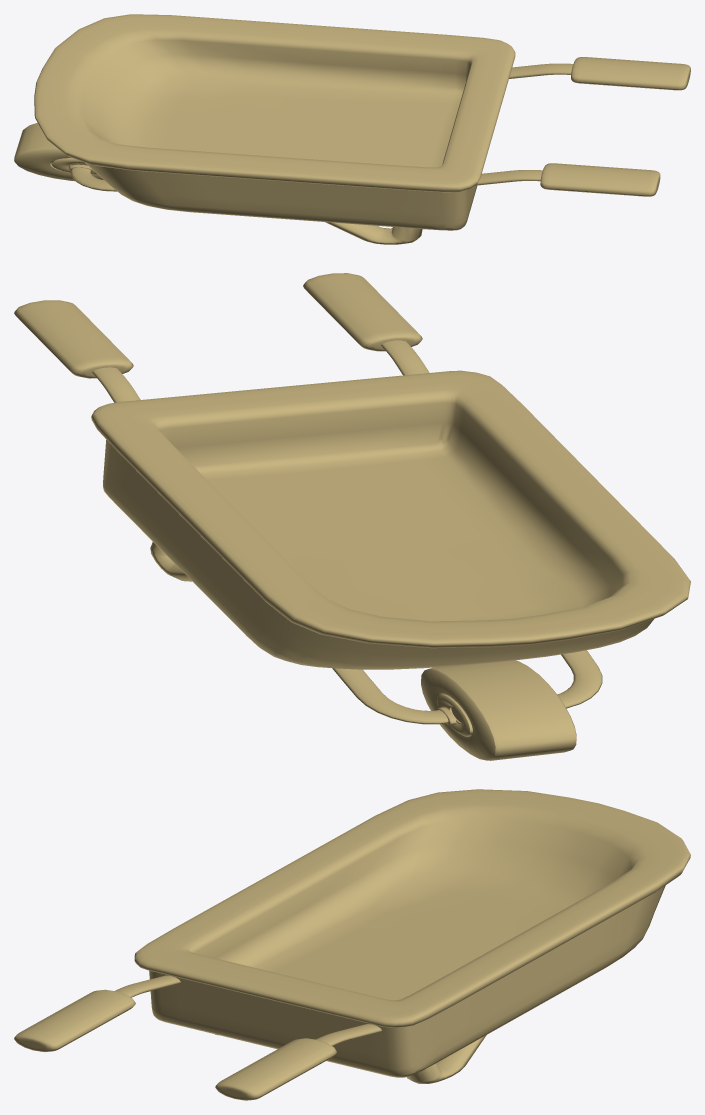
File: WheelsBarrow-Shadow.fbx
3 renders of one model, top to bottom at view 1: azimuth 30°, elevation 25°; view 2: azimuth 150°, elevation 25°; view 3: azimuth 270°, elevation 25°, orthographic. The views are drawn at different scales.
Parts seen in each view (by area): view 1: WheelsBarrow-Shadow, Wheel, BarrowRods; view 2: WheelsBarrow-Shadow, Wheel, BarrowRods; view 3: WheelsBarrow-Shadow.
Boxes of the visible parts, bbox=[...] form: WheelsBarrow-Shadow: bbox=[34, 14, 690, 244]; Wheel: bbox=[14, 123, 103, 181]; BarrowRods: bbox=[68, 163, 116, 191]; WheelsBarrow-Shadow: bbox=[14, 273, 690, 669]; Wheel: bbox=[421, 660, 576, 760]; BarrowRods: bbox=[332, 650, 602, 724]; WheelsBarrow-Shadow: bbox=[14, 789, 690, 1100].
Size of the model in its own units: 17.82 by 3.26 by 16.2.
